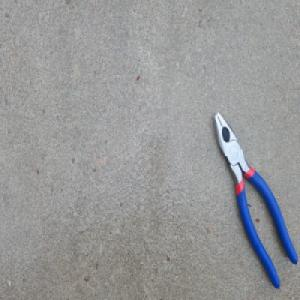Pliers: (210, 105, 298, 290)
